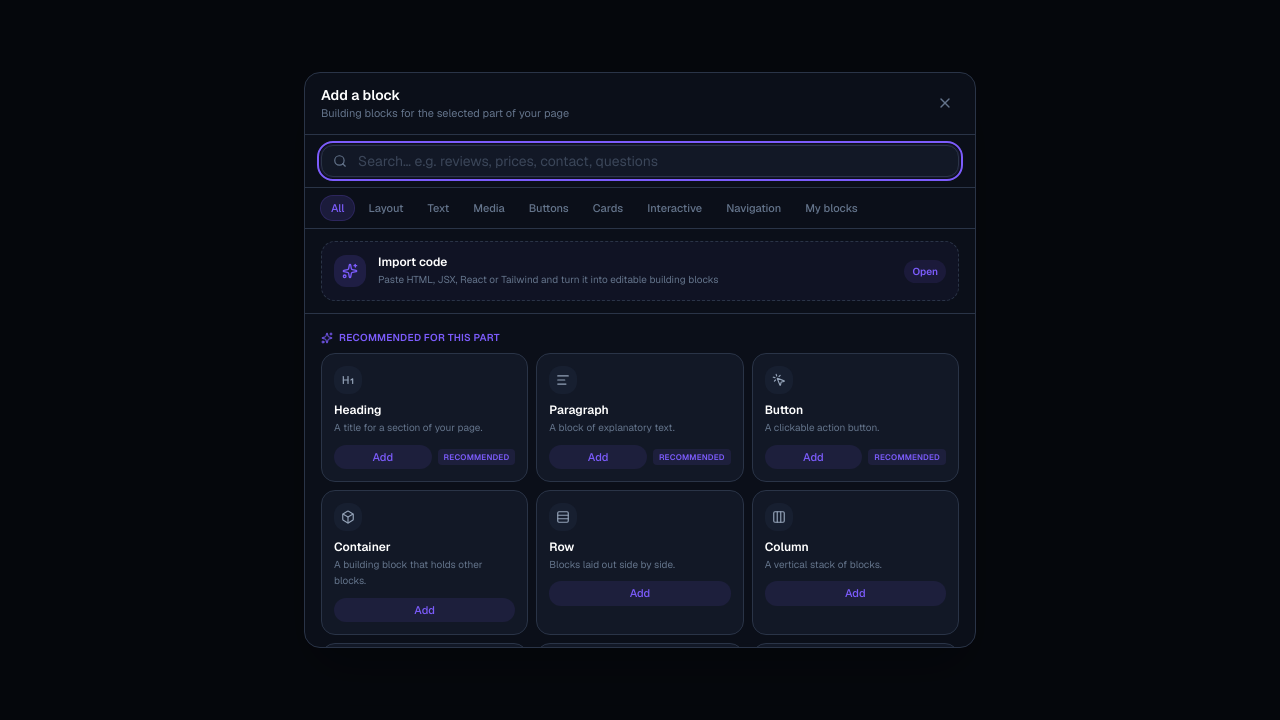
Block Browser entry point › "Import code" opens the Import Studio with the current target
Click the button with test id "browser-import-code" at (640, 271), box [321, 241, 959, 301]
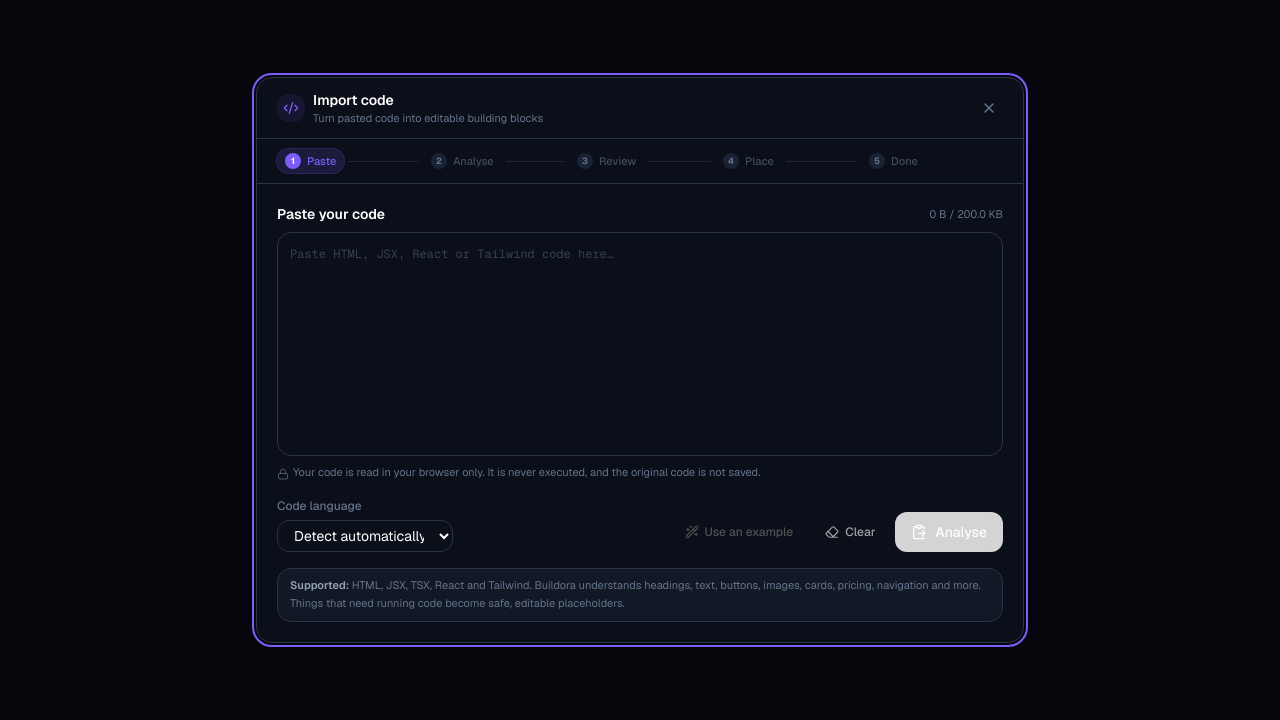
Expected: the dialog with test id "code-import-dialog" is shown
